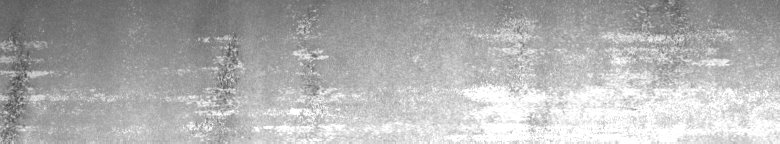hc: (4, 38, 55, 131)
